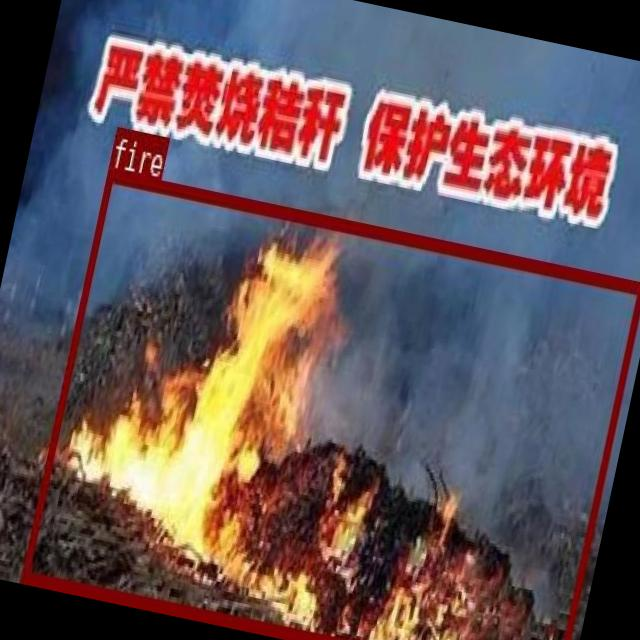fire: (20, 166, 640, 640)
